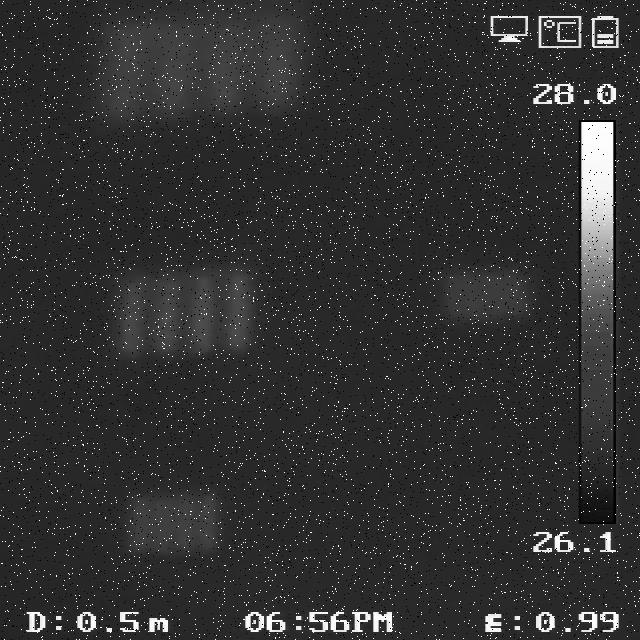Distinguishable 4-bar target: (115, 264, 256, 353)
Indistinguishable 4-bar target: (440, 266, 532, 321)
threshold 4-bar target: (98, 13, 310, 119), (129, 491, 215, 552)
